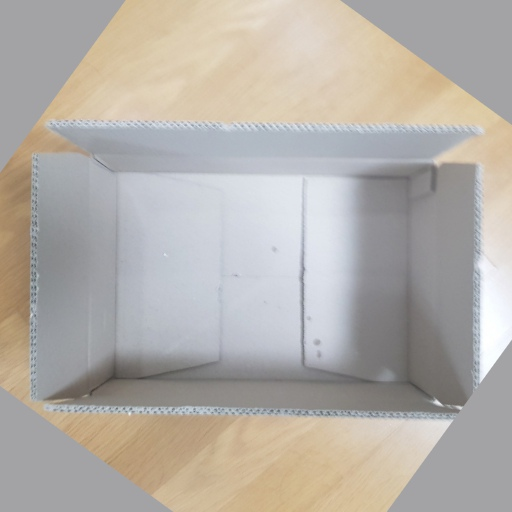Paper_0: (27, 114, 490, 422)
